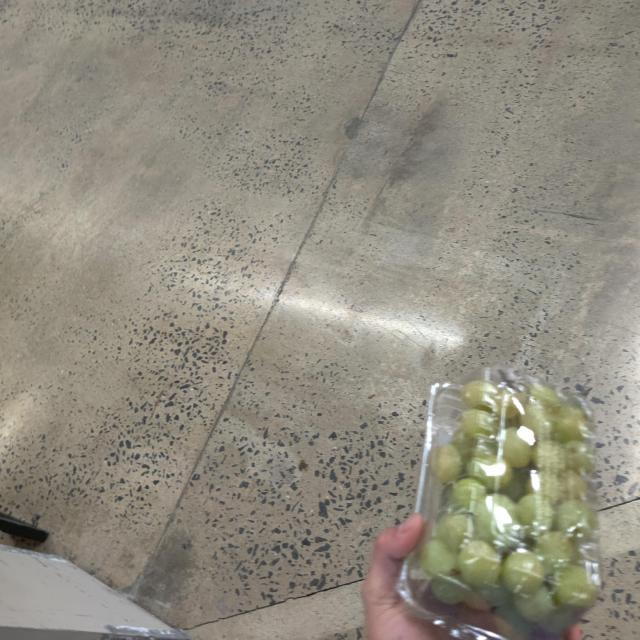Grapes: (398, 369, 604, 640)
